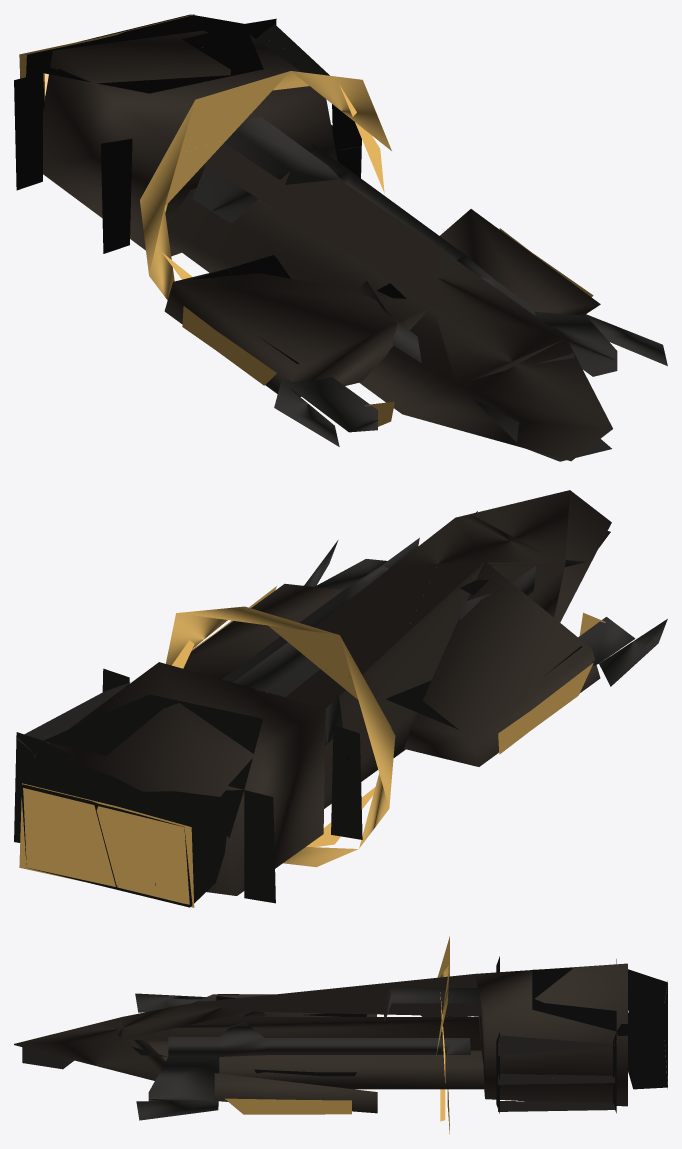
File: goniec-wybudzeni-hawk-7-lod2.glb
The picture shows the model from 3 angles, top to bottom: view 1: azimuth 30°, elevation 25°; view 2: azimuth 150°, elevation 25°; view 3: azimuth 270°, elevation 25°; orthographic projection. The views are drawn at different scales.
Bounding box in the file's own units: 5.59 × 4.01 × 13.95.
